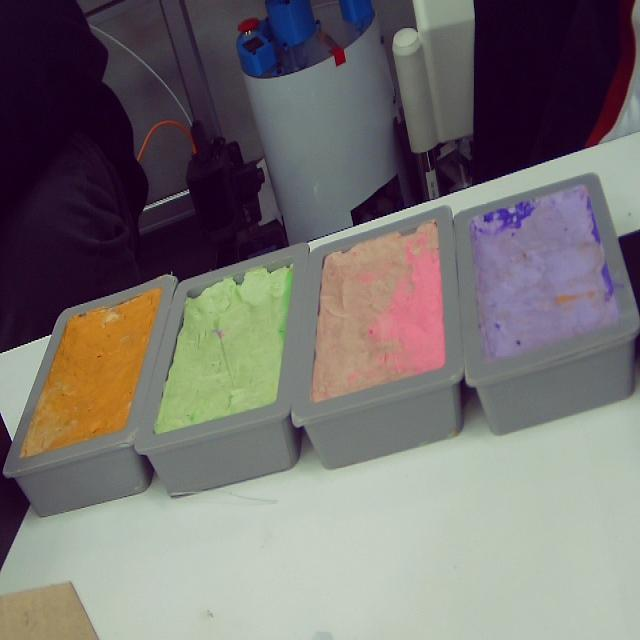block: (452, 172, 637, 437), (290, 204, 466, 469), (131, 244, 312, 494), (0, 274, 176, 515)
